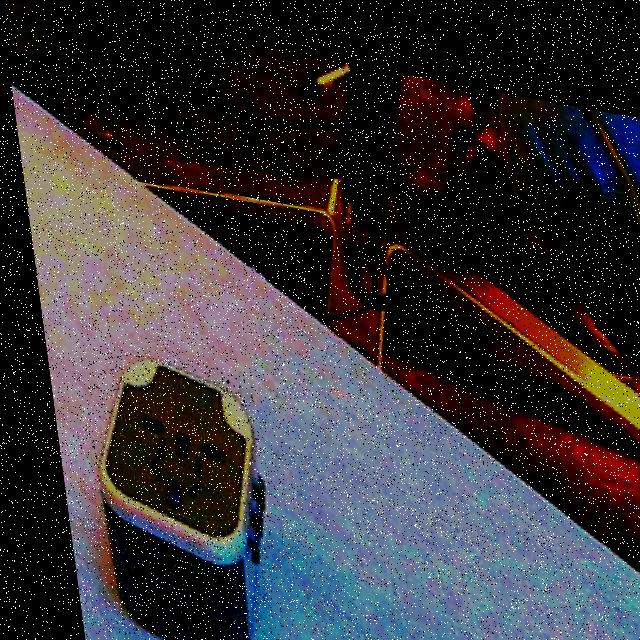adapter: (69, 340, 273, 640)
